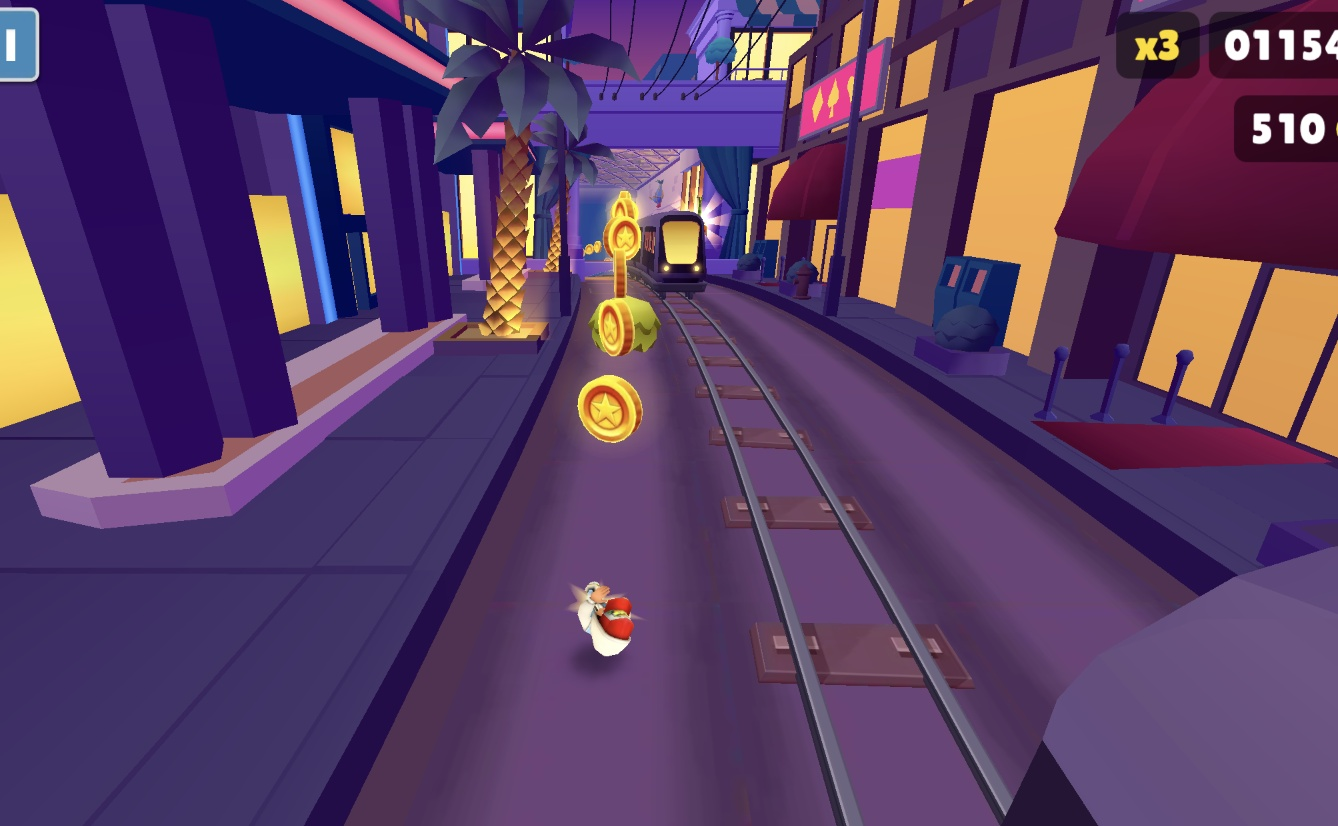bush: (589, 297, 662, 357)
train: (1001, 544, 1338, 826), (637, 217, 701, 289)
